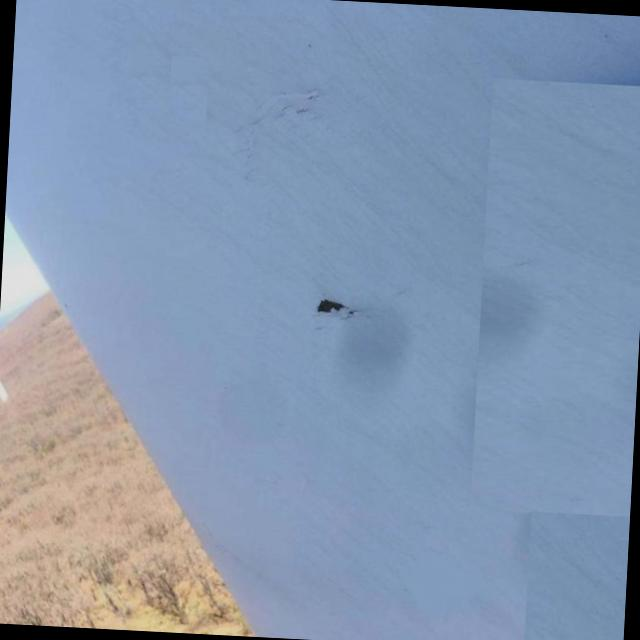surface_peeling: (311, 296, 350, 319)
